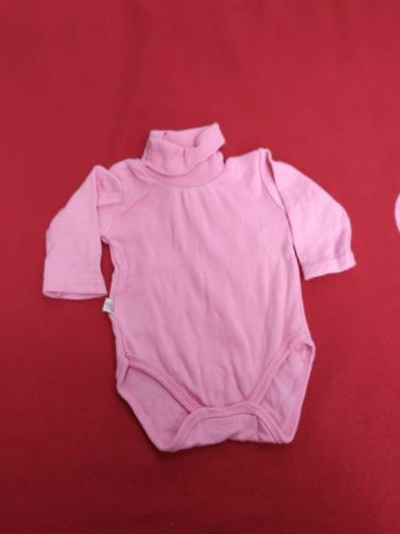Body: (23, 76, 387, 507), (373, 21, 400, 451), (0, 137, 4, 534)
